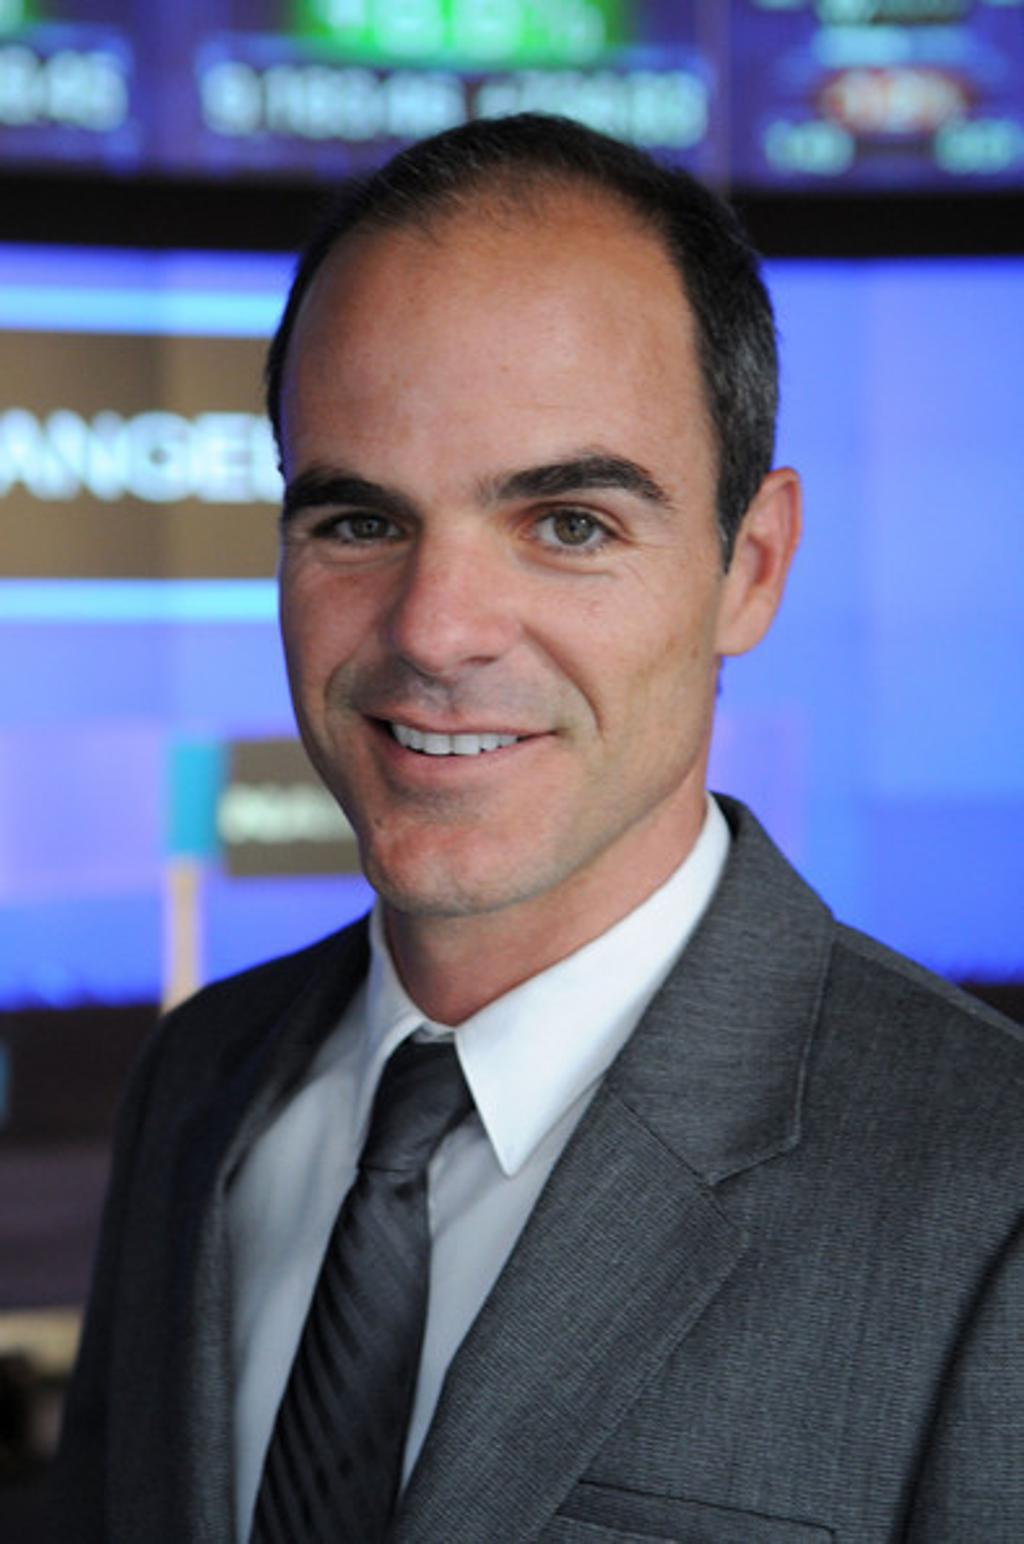face: (278, 218, 709, 905)
